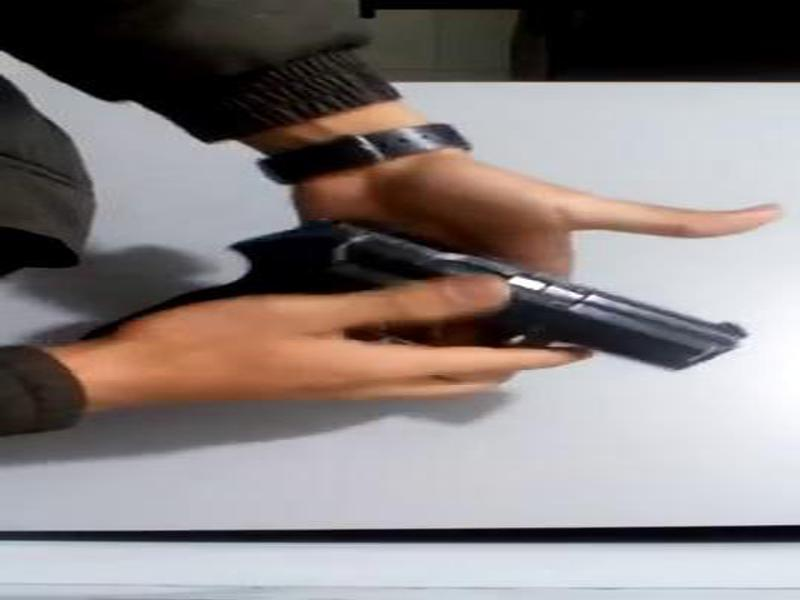Pistola: (159, 198, 759, 437)
